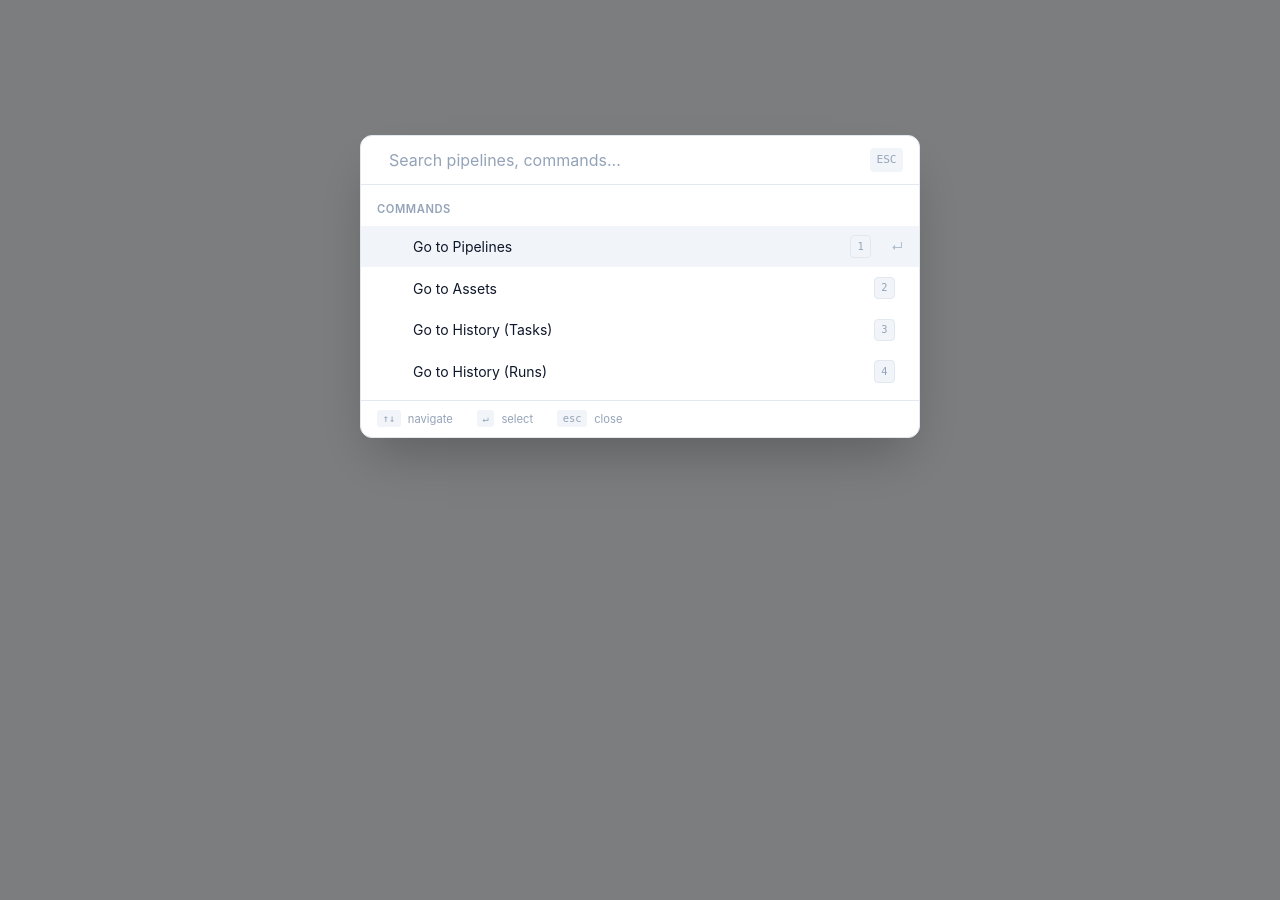
CommandPalette › search filtering › shows no results message for unmatched query
In the dropdown: (624, 160) [389,148,858,172], type "zzz_nonexistent_zzz"
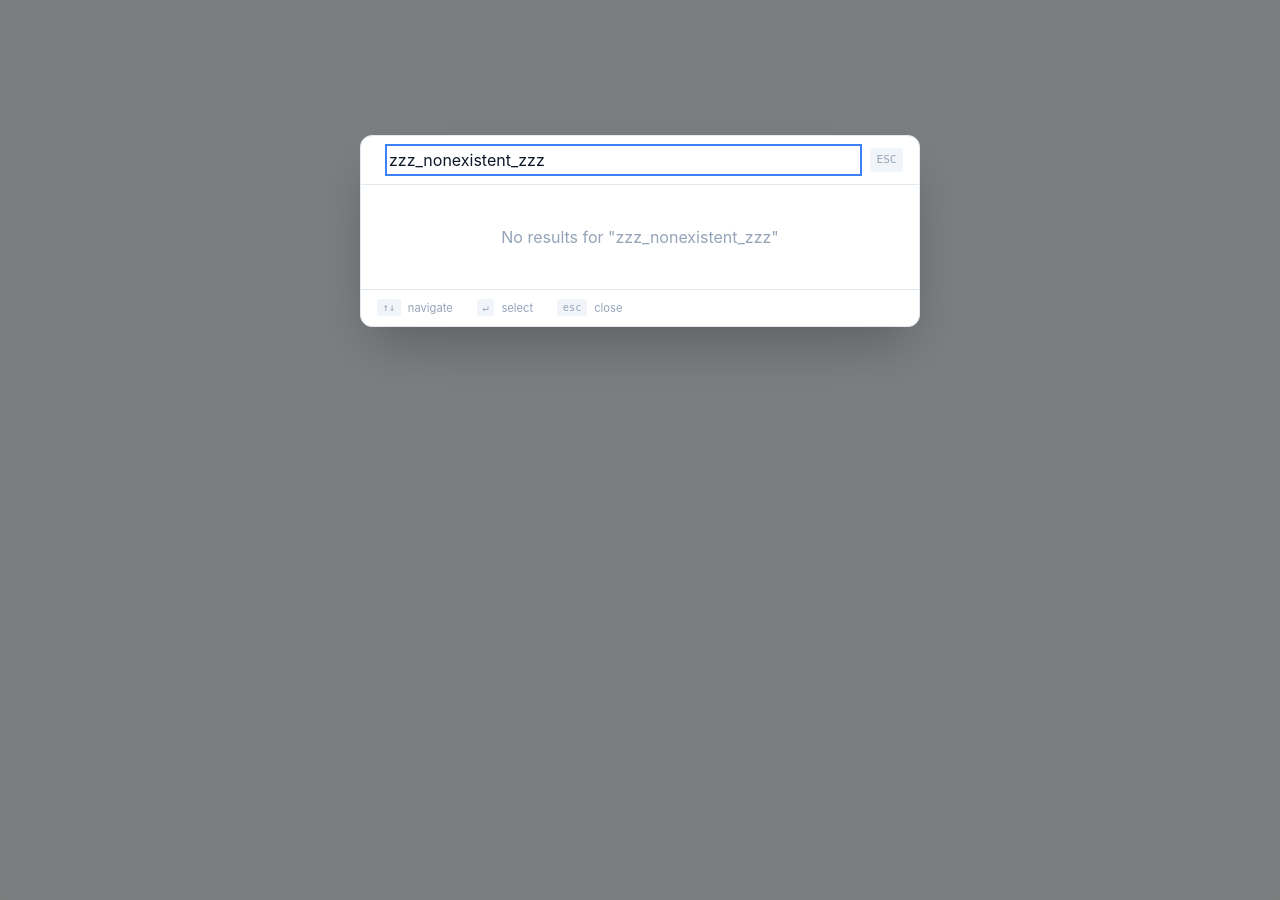
Now the text "No results for \"zzz_nonexistent_zzz\"" is shown, box [501,227,779,247]
